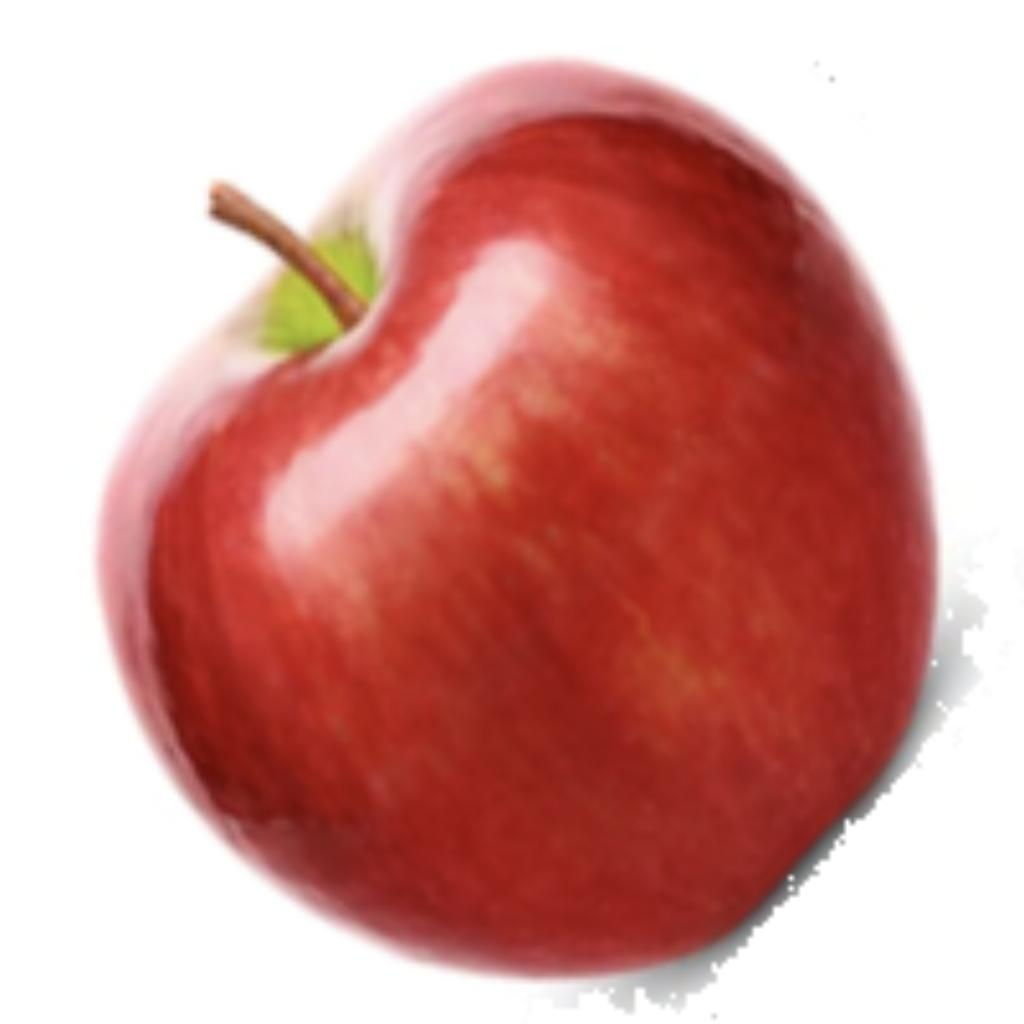apple: (87, 46, 998, 1014)
